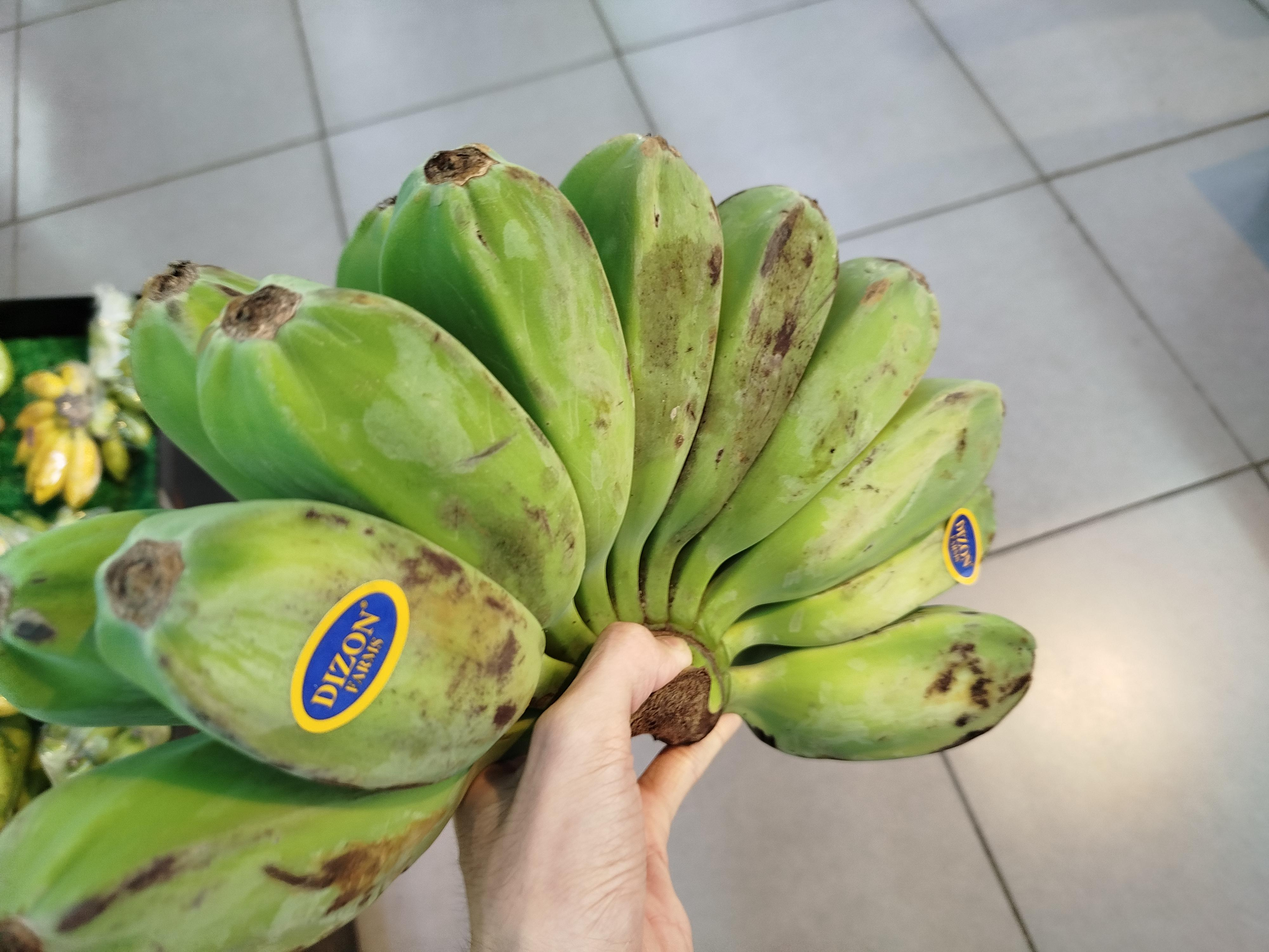underripe: (0, 135, 1034, 949)
